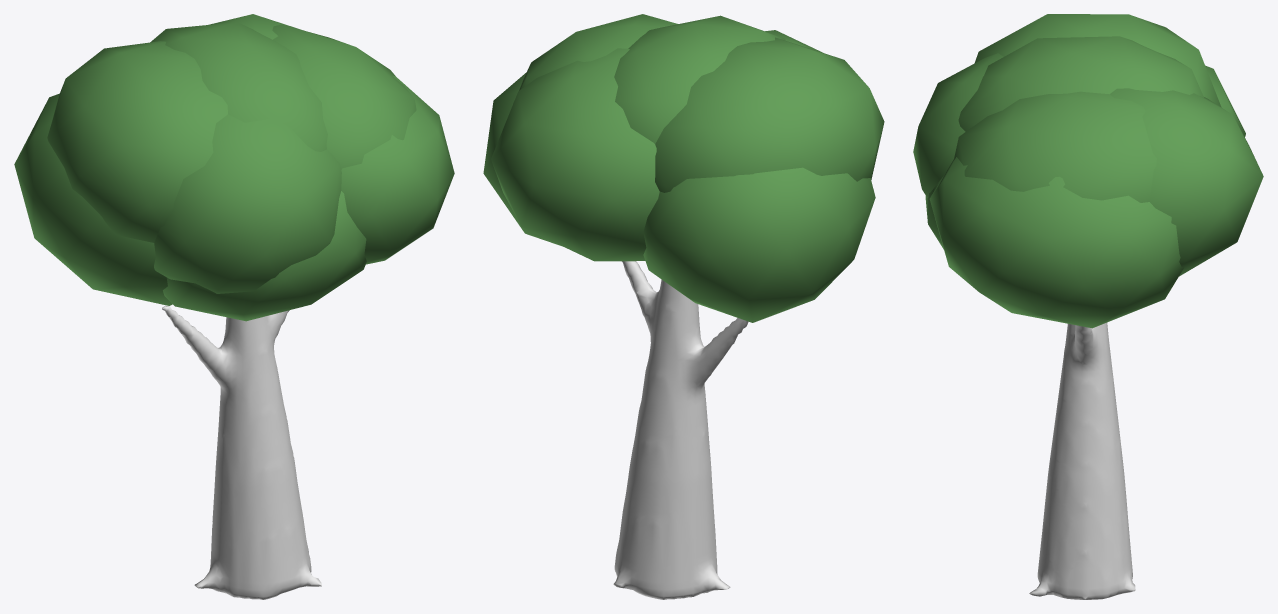
File: NaturalTree_04_LeftLean.fbx
3 views of the same model, side by side, from view 1: azimuth 30°, elevation 25°; view 2: azimuth 150°, elevation 25°; view 3: azimuth 270°, elevation 25° (orthographic). The views are drawn at different scales.
Parts seen in each view (by area): view 1: Foliage_01.003, Foliage_03.003, Trunk.003, Foliage_05.003, Foliage_06.003, Foliage_00.003, Foliage_02.003, Foliage_07.003, Foliage_04.003; view 2: Foliage_05.003, Trunk.003, Foliage_04.003, Foliage_01.003, Foliage_00.003, Foliage_02.003, Foliage_06.003; view 3: Foliage_06.003, Trunk.003, Foliage_02.003, Foliage_04.003, Foliage_00.003, Foliage_01.003, Foliage_03.003, Foliage_05.003.
Part boxes in pixels (box(x1,y1,x2,y2)): Foliage_01.003: box(47, 41, 227, 242); Foliage_03.003: box(154, 114, 341, 293); Trunk.003: box(162, 306, 321, 599); Foliage_05.003: box(14, 93, 172, 305); Foliage_06.003: box(341, 75, 454, 264); Foliage_00.003: box(150, 22, 327, 151); Foliage_02.003: box(272, 24, 416, 169); Foliage_07.003: box(163, 191, 366, 321); Foliage_04.003: box(208, 14, 300, 39); Foliage_05.003: box(643, 167, 875, 322); Trunk.003: box(613, 261, 748, 599); Foliage_04.003: box(491, 48, 659, 261); Foliage_01.003: box(655, 37, 884, 192); Foliage_00.003: box(614, 15, 785, 143); Foliage_02.003: box(513, 14, 677, 103); Foliage_06.003: box(483, 72, 562, 246); Foliage_06.003: box(929, 157, 1183, 328); Trunk.003: box(1029, 322, 1135, 599); Foliage_02.003: box(953, 91, 1156, 202); Foliage_04.003: box(1110, 88, 1263, 276); Foliage_00.003: box(958, 36, 1203, 131); Foliage_01.003: box(974, 14, 1221, 107); Foliage_03.003: box(913, 53, 1003, 197); Foliage_05.003: box(1205, 65, 1245, 136).
Size of the model in its own units: 2.07 by 2.9 by 1.76.
